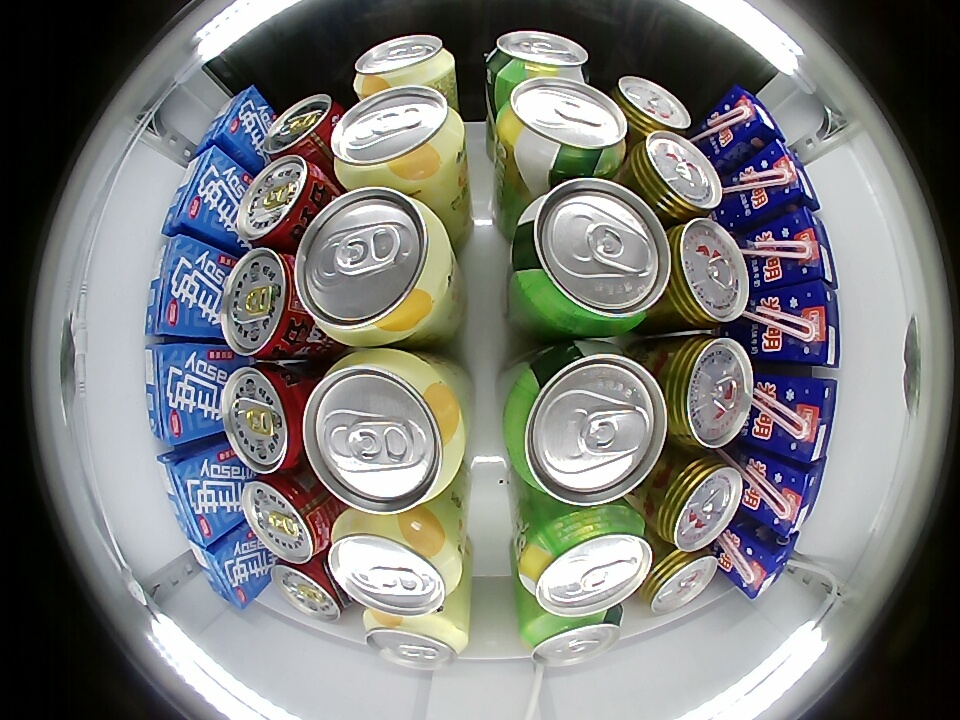bingqilinniunai: (760, 375, 837, 462), (762, 282, 840, 365), (749, 456, 827, 538), (760, 207, 837, 287), (738, 139, 819, 215), (725, 529, 799, 600), (710, 85, 782, 150)
hongniu2: (660, 333, 755, 450), (661, 218, 749, 329), (653, 454, 743, 552), (629, 130, 722, 222), (642, 545, 718, 613), (613, 75, 691, 139)
mangguoxiaolao: (303, 348, 468, 515), (296, 187, 454, 347), (328, 508, 463, 618), (329, 84, 465, 188), (362, 609, 469, 670), (353, 34, 455, 94)
quchenshixiangcao: (504, 340, 668, 505), (511, 178, 673, 337), (517, 506, 652, 618), (496, 75, 628, 178), (485, 30, 590, 84), (521, 611, 622, 667)
wangzainiunai: (220, 248, 315, 360), (220, 362, 312, 474), (236, 156, 330, 250), (241, 471, 334, 564), (263, 94, 342, 165), (270, 553, 347, 622)
weitanai: (144, 233, 228, 341), (160, 144, 243, 242), (155, 448, 234, 547), (143, 343, 217, 445), (195, 84, 276, 161), (187, 534, 266, 609)
